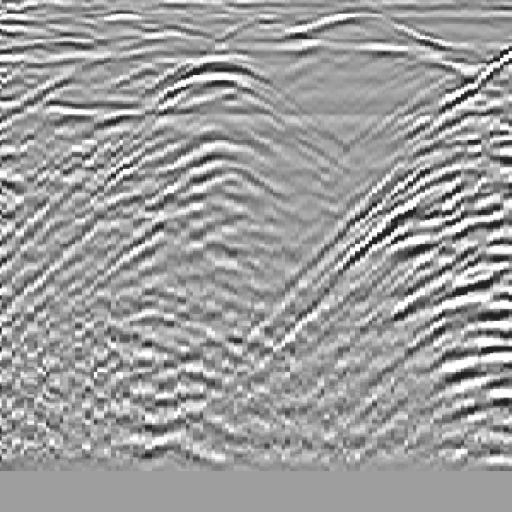metalic: (118, 31, 345, 268)
